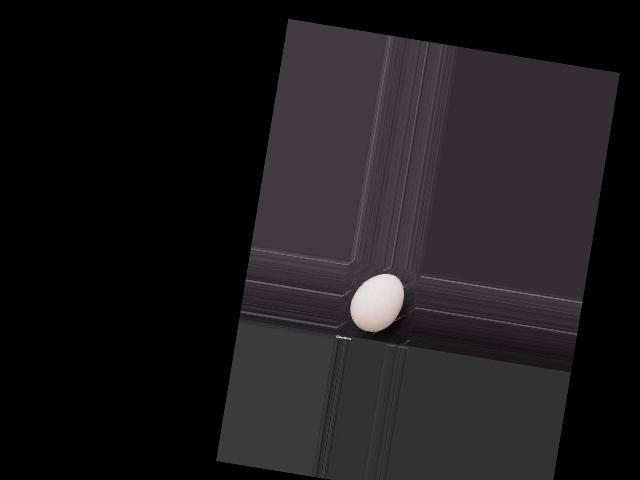egg: (347, 269, 407, 336)
